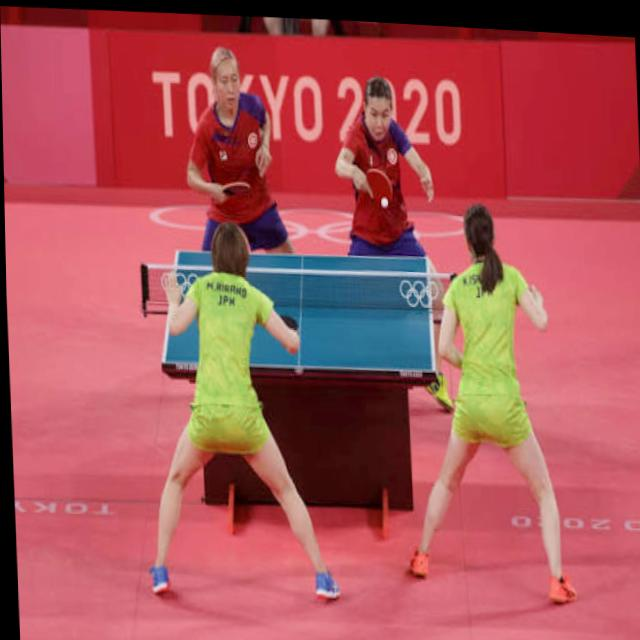TT Net: (141, 260, 464, 320)
TT Racket: (359, 165, 400, 214), (218, 173, 254, 204), (276, 308, 300, 335)
TT Table: (163, 249, 433, 369)
